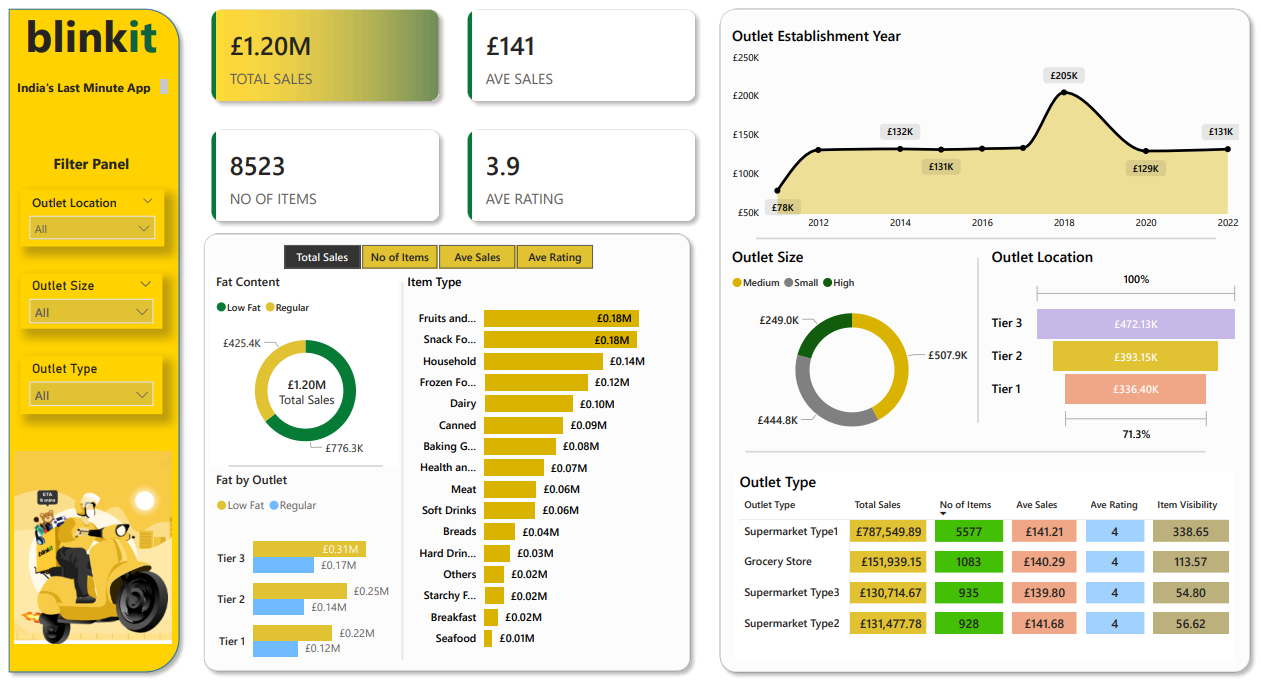

Layout of this report page (visuals, bound fields, positions):
{"tool":"powerbi","page":{"name":"Page 1","canvas":[1400,800],"ordinal":0},"visuals":[{"type":"shape","box":[0,18.2,205.4,750.2],"z":0},{"type":"textbox","box":[13.2,99.4,175.6,26.5],"z":1000},{"type":"textbox","box":[8.3,18.2,182.2,81.2],"z":2000},{"type":"cardVisual","fields":{"Data":["BlinkIT Grocery Data.Total Sales","BlinkIT Grocery Data.Average Sales","BlinkIT Grocery Data.No of Items","BlinkIT Grocery Data.Average Rating"]},"box":[215.3,11.6,569.7,270],"z":3000},{"type":"shape","box":[215.3,266.6,554,501],"z":4000},{"type":"slicer","fields":{"Values":["Metrics.Metrics"]},"box":[286.5,281.5,390.9,38.1],"z":5000},{"type":"donutChart","title":"Fat Content","fields":{"Y":["BlinkIT Grocery Data.Total Sales"],"Category":["BlinkIT Grocery Data.Item Fat Content"]},"box":[233.5,319.6,207,213.6],"z":6000},{"type":"cardVisual","fields":{"Data":["BlinkIT Grocery Data.Total Sales"]},"box":[289.8,415.7,96.1,56.3],"z":7000},{"type":"clusteredBarChart","title":"Fat by Outlet","fields":{"Y":["BlinkIT Grocery Data.Total Sales"],"Category":["BlinkIT Grocery Data.Outlet Location Type"],"Series":["BlinkIT Grocery Data.Item Fat Content"]},"box":[233.5,538.3,220.3,230.2],"z":8000},{"type":"shape","box":[251.7,503.5,170.6,59.6],"z":9000},{"type":"shape","box":[432.3,329.6,21.5,417.4],"z":10000},{"type":"barChart","title":"Item Type","fields":{"Y":["BlinkIT Grocery Data.Total Sales"],"Category":["BlinkIT Grocery Data.Item Type"]},"box":[443.9,319.6,308,427.3],"z":11000},{"type":"shape","box":[785,18.2,602.8,750.2],"z":12000},{"type":"lineChart","title":"Outlet Establishment Year","fields":{"Y":["BlinkIT Grocery Data.Total Sales"],"Category":["BlinkIT Grocery Data.Outlet Establishment Year"]},"box":[803.2,46.4,569.7,235.2],"z":13000},{"type":"shape","box":[834.7,251.7,508.4,59.6],"z":14000},{"type":"donutChart","title":"Outlet Size","fields":{"Y":["BlinkIT Grocery Data.Total Sales"],"Category":["BlinkIT Grocery Data.Outlet Size"]},"box":[803.2,289.8,275,225],"z":15000},{"type":"funnel","title":"Outlet Location","fields":{"Category":["BlinkIT Grocery Data.Outlet Location Type"],"Y":["BlinkIT Grocery Data.Total Sales"]},"box":[1089.8,289.8,283.2,221.9],"z":16000},{"type":"pivotTable","title":"Outlet Type","fields":{"Rows":["BlinkIT Grocery Data.Outlet Type"],"Values":["BlinkIT Grocery Data.Total Sales","BlinkIT Grocery Data.No of Items","BlinkIT Grocery Data.Ave Sales","BlinkIT Grocery Data.Ave Rating","Sum(BlinkIT Grocery Data.Item Visibility)"]},"box":[811.5,538.3,551.5,210.3],"z":17000},{"type":"shape","box":[823.1,486.9,508.4,59.6],"z":18000},{"type":"shape","box":[993.7,303.1,170.6,182.2],"z":19000},{"type":"slicer","title":"Outlet Location","fields":{"Values":["BlinkIT Grocery Data.Outlet Location Type"]},"box":[21.4,227.1,158.6,62.9],"z":20000},{"type":"slicer","fields":{"Values":["BlinkIT Grocery Data.Outlet Size"]},"box":[21.4,320,157.1,61.4],"z":21000},{"type":"slicer","fields":{"Values":["BlinkIT Grocery Data.Outlet Type"]},"box":[21.4,411.4,157.1,64.3],"z":22000},{"type":"textbox","box":[53,182.2,102.7,36.4],"z":23000},{"type":"image","box":[4.3,511.4,195.7,222.9],"z":24000}]}

Visuals, with their boxes on the page's 1400x800 design canvas (x1, y1, x2, y2). These are canvas units, not pixel positions in the 1261x682 screenshot, which may show the page scaled, cropped or inside an application window:
shape: 0/18/205/768
textbox: 13/99/189/126
textbox: 8/18/190/99
cardVisual - BlinkIT Grocery Data.Total Sales x BlinkIT Grocery Data.Average Sales: 215/12/785/282
shape: 215/267/769/768
slicer - Metrics.Metrics: 286/282/677/320
"Fat Content" donutChart: 234/320/440/533
cardVisual - BlinkIT Grocery Data.Total Sales: 290/416/386/472
"Fat by Outlet" clusteredBarChart: 234/538/454/768
shape: 252/504/422/563
shape: 432/330/454/747
"Item Type" barChart: 444/320/752/747
shape: 785/18/1388/768
"Outlet Establishment Year" lineChart: 803/46/1373/282
shape: 835/252/1343/311
"Outlet Size" donutChart: 803/290/1078/515
"Outlet Location" funnel: 1090/290/1373/512
"Outlet Type" pivotTable: 812/538/1363/749
shape: 823/487/1332/546
shape: 994/303/1164/485
"Outlet Location" slicer: 21/227/180/290
slicer - BlinkIT Grocery Data.Outlet Size: 21/320/178/381
slicer - BlinkIT Grocery Data.Outlet Type: 21/411/178/476
textbox: 53/182/156/219
image: 4/511/200/734
